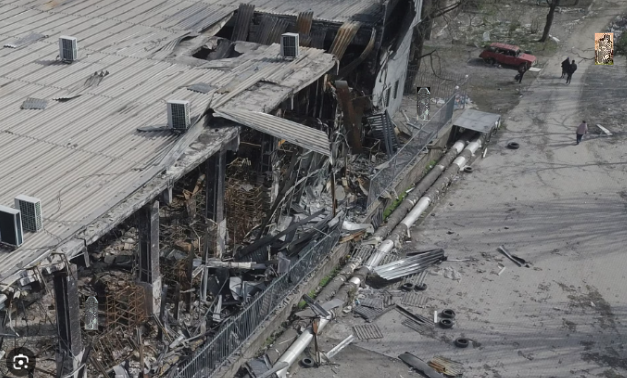HVT1: (85, 296, 98, 329), (416, 88, 429, 119), (599, 35, 612, 63)
